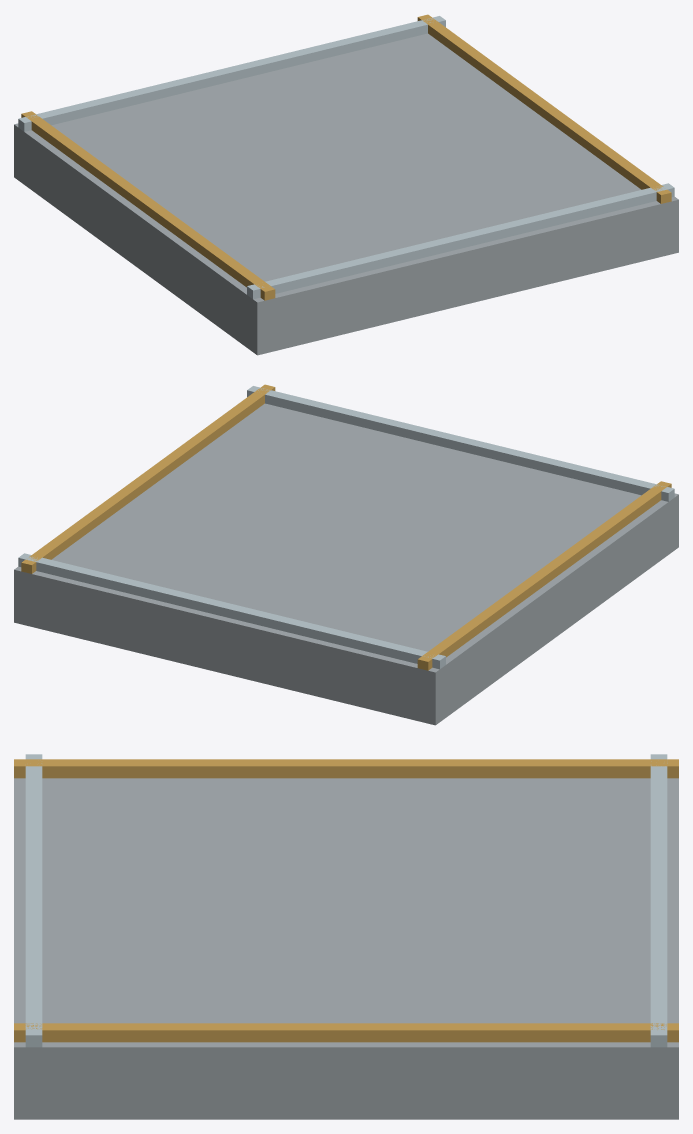
File: foundation.glb
The picture shows the model from 3 angles, top to bottom: view 1: azimuth 30°, elevation 25°; view 2: azimuth 150°, elevation 25°; view 3: azimuth 270°, elevation 25°; orthographic projection. The views are drawn at different scales.
Visible parts, largest first — view 1: foundation slab, floor joint, floor joint.001, floor brass rim, floor brass rim.001; view 2: foundation slab, floor joint.001, floor joint, floor brass rim, floor brass rim.001; view 3: foundation slab, floor brass rim, floor brass rim.001, floor joint, floor joint.001.
Boxes of the visible parts, left/top/right/bottom form: foundation slab: left=14, top=33, right=678, bottom=355; floor joint: left=247, top=183, right=674, bottom=299; floor joint.001: left=18, top=16, right=445, bottom=131; floor brass rim: left=21, top=111, right=275, bottom=300; floor brass rim.001: left=417, top=14, right=671, bottom=203; foundation slab: left=14, top=403, right=678, bottom=725; floor joint.001: left=18, top=553, right=445, bottom=669; floor joint: left=247, top=386, right=674, bottom=501; floor brass rim: left=417, top=481, right=671, bottom=670; floor brass rim.001: left=21, top=384, right=275, bottom=573; foundation slab: left=14, top=778, right=678, bottom=1119; floor brass rim: left=14, top=759, right=678, bottom=778; floor brass rim.001: left=14, top=1023, right=678, bottom=1042; floor joint: left=25, top=754, right=42, bottom=1047; floor joint.001: left=650, top=754, right=667, bottom=1047.
Size of the model in its own units: 1 by 0.14 by 1.
